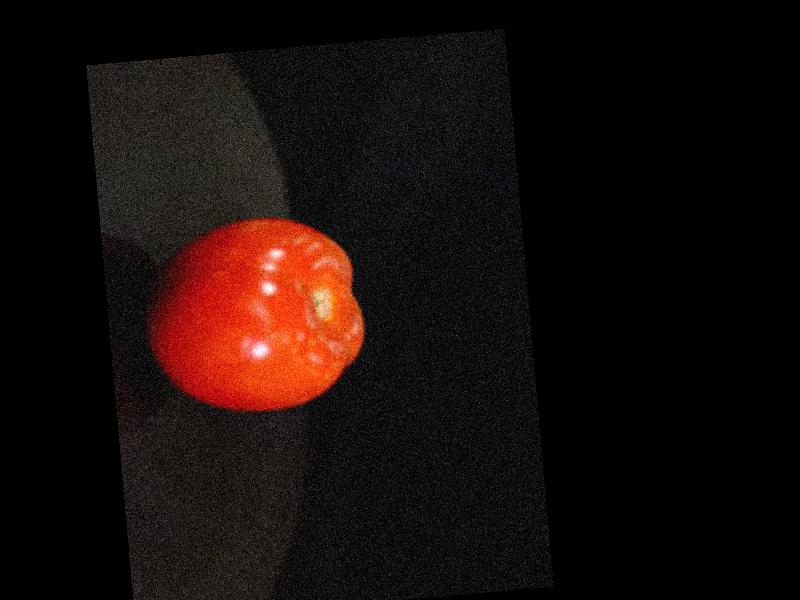Tomato: (137, 208, 374, 423)
